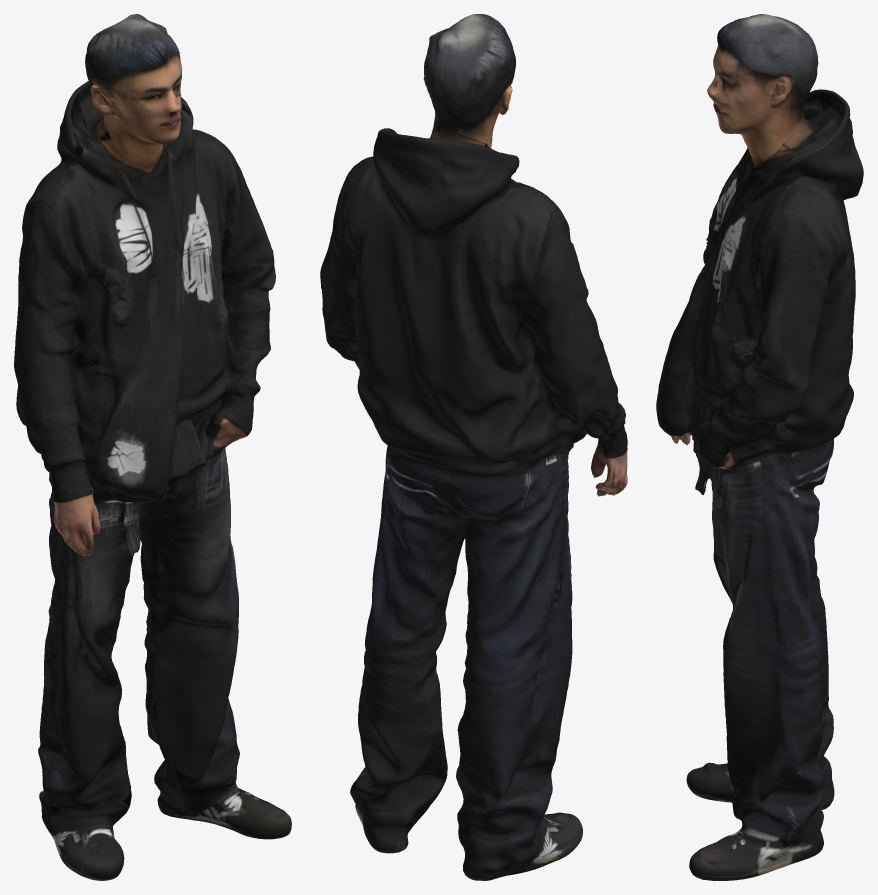
Rendered from mario.glb.
The picture shows the model from 3 angles, left to right: view 1: azimuth 30°, elevation 25°; view 2: azimuth 150°, elevation 25°; view 3: azimuth 270°, elevation 25°; orthographic projection. The views are drawn at different scales.
Bounding box in the file's own units: 0.6823 × 2 × 0.4662.
1 material, 1 textured.
